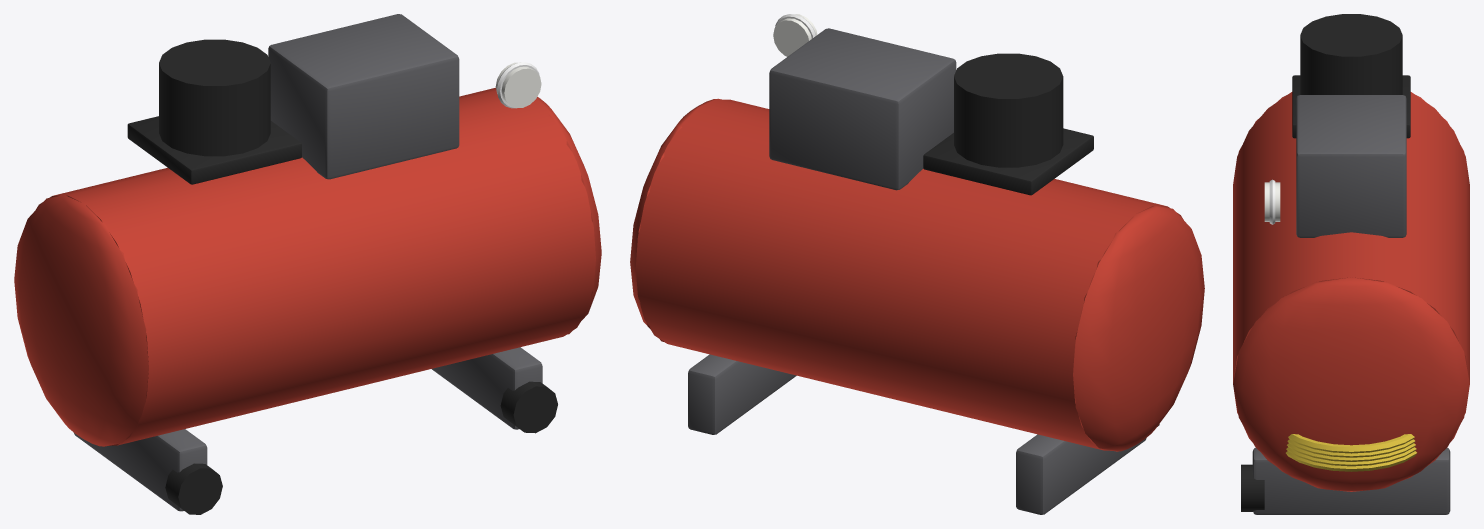
File: g_compressor.fbx
3 renders of one model, left to right at view 1: azimuth 30°, elevation 25°; view 2: azimuth 150°, elevation 25°; view 3: azimuth 270°, elevation 25°, orthographic. The views are drawn at different scales.
Visible parts, largest first — view 1: g_compressor_red, g_compressor_darksteel, g_compressor_black, g_compressor_rubber, g_compressor_gauge; view 2: g_compressor_red, g_compressor_darksteel, g_compressor_black, g_compressor_gauge; view 3: g_compressor_red, g_compressor_darksteel, g_compressor_black, g_compressor_yellow, g_compressor_rubber, g_compressor_gauge, g_compressor_chrome.
Boxes of the visible parts, <box> form: g_compressor_red: <box>14,87,601,446</box>; g_compressor_darksteel: <box>73,14,542,511</box>; g_compressor_black: <box>127,39,301,184</box>; g_compressor_rubber: <box>165,381,557,514</box>; g_compressor_gauge: <box>495,62,541,108</box>; g_compressor_red: <box>630,98,1204,451</box>; g_compressor_darksteel: <box>688,28,1146,514</box>; g_compressor_black: <box>923,53,1093,195</box>; g_compressor_gauge: <box>773,14,817,56</box>; g_compressor_red: <box>1233,92,1469,491</box>; g_compressor_darksteel: <box>1252,95,1450,514</box>; g_compressor_black: <box>1292,14,1410,138</box>; g_compressor_yellow: <box>1286,434,1416,471</box>; g_compressor_rubber: <box>1241,464,1264,511</box>; g_compressor_gauge: <box>1264,182,1280,221</box>; g_compressor_chrome: <box>1269,179,1275,224</box>.
Bounding box in the file's own units: 1.42 × 1 × 0.6.
